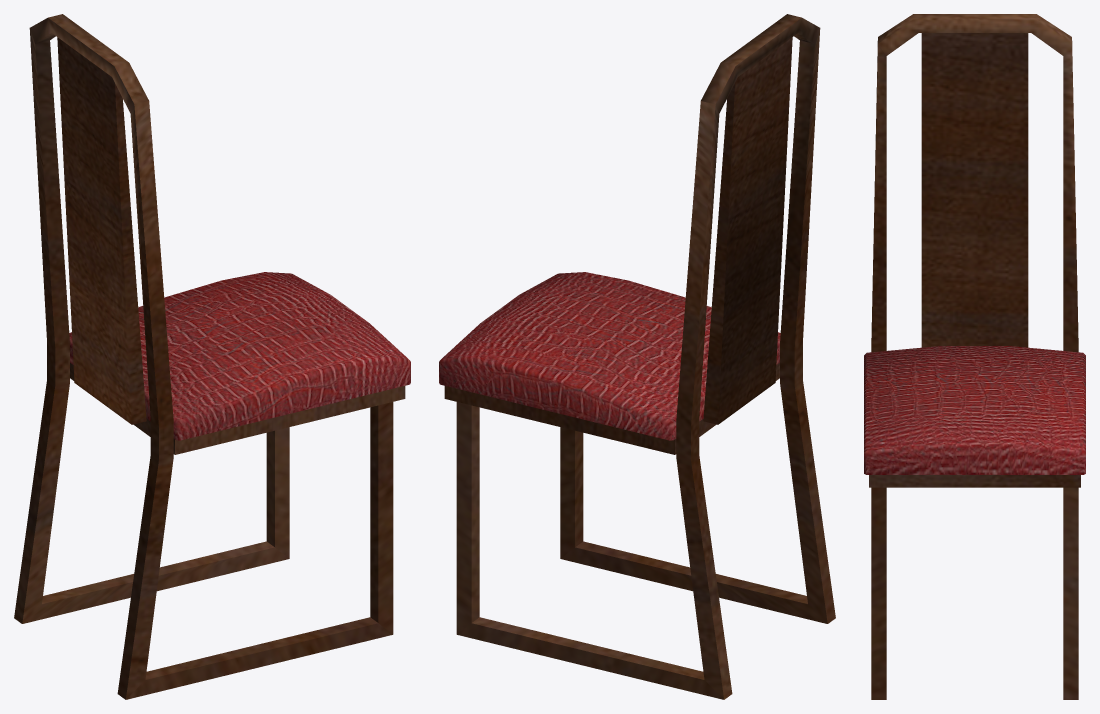
Rendered from BarStool1.fbx.
3 renders of one model, left to right at view 1: azimuth 30°, elevation 25°; view 2: azimuth 150°, elevation 25°; view 3: azimuth 270°, elevation 25°, orthographic. The views are drawn at different scales.
Visible parts, largest first — view 1: Empty_Mesh; view 2: Empty_Mesh; view 3: Empty_Mesh.
Part boxes in pixels (x1,y1,x2,y2): Empty_Mesh: [14, 14, 410, 699]; Empty_Mesh: [439, 14, 835, 699]; Empty_Mesh: [864, 14, 1085, 699].
Bounding box in the file's own units: 65.18 × 135 × 47.71.
